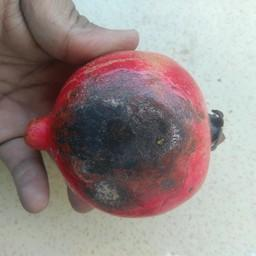Bad_pomegranate: (27, 55, 225, 219)
